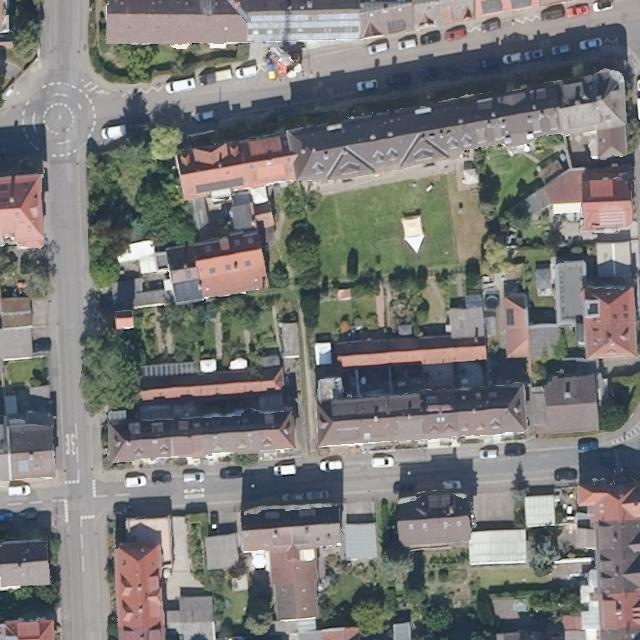PV: (246, 11, 362, 30), (245, 30, 362, 42)
